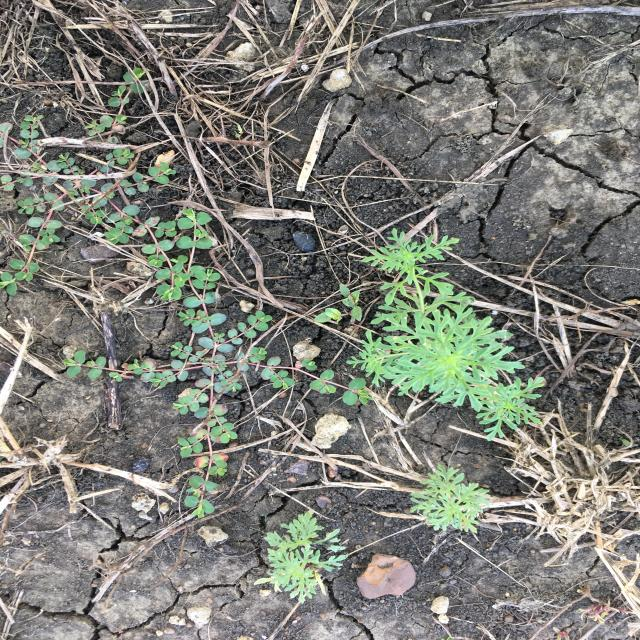Ragweed: (343, 226, 547, 442), (252, 509, 351, 604), (404, 461, 498, 538)
SpottedSpurge: (62, 266, 373, 521), (2, 65, 194, 304)
